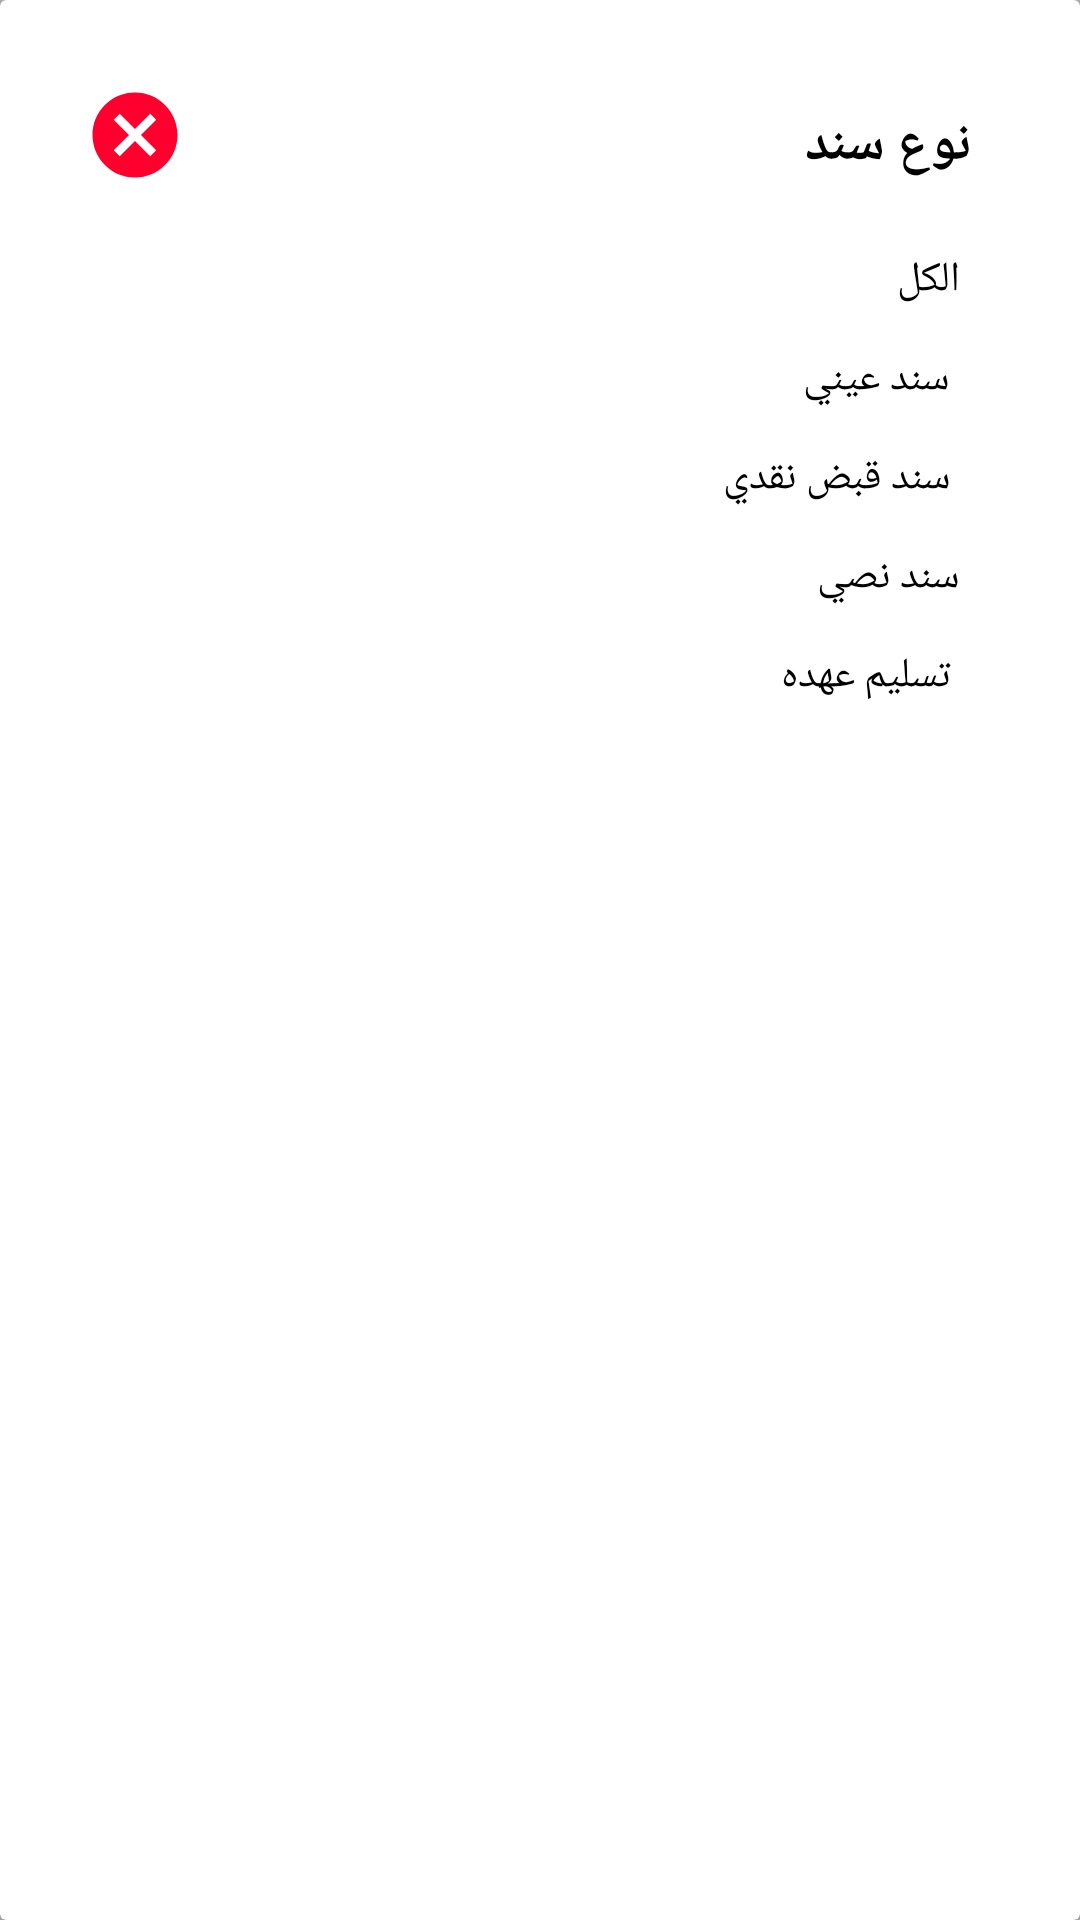

Locate icon controls on the screen. Image size 1080 × 1920, boxes as (x1, y1, x2, y2).
cancel: (92, 92, 178, 178)
